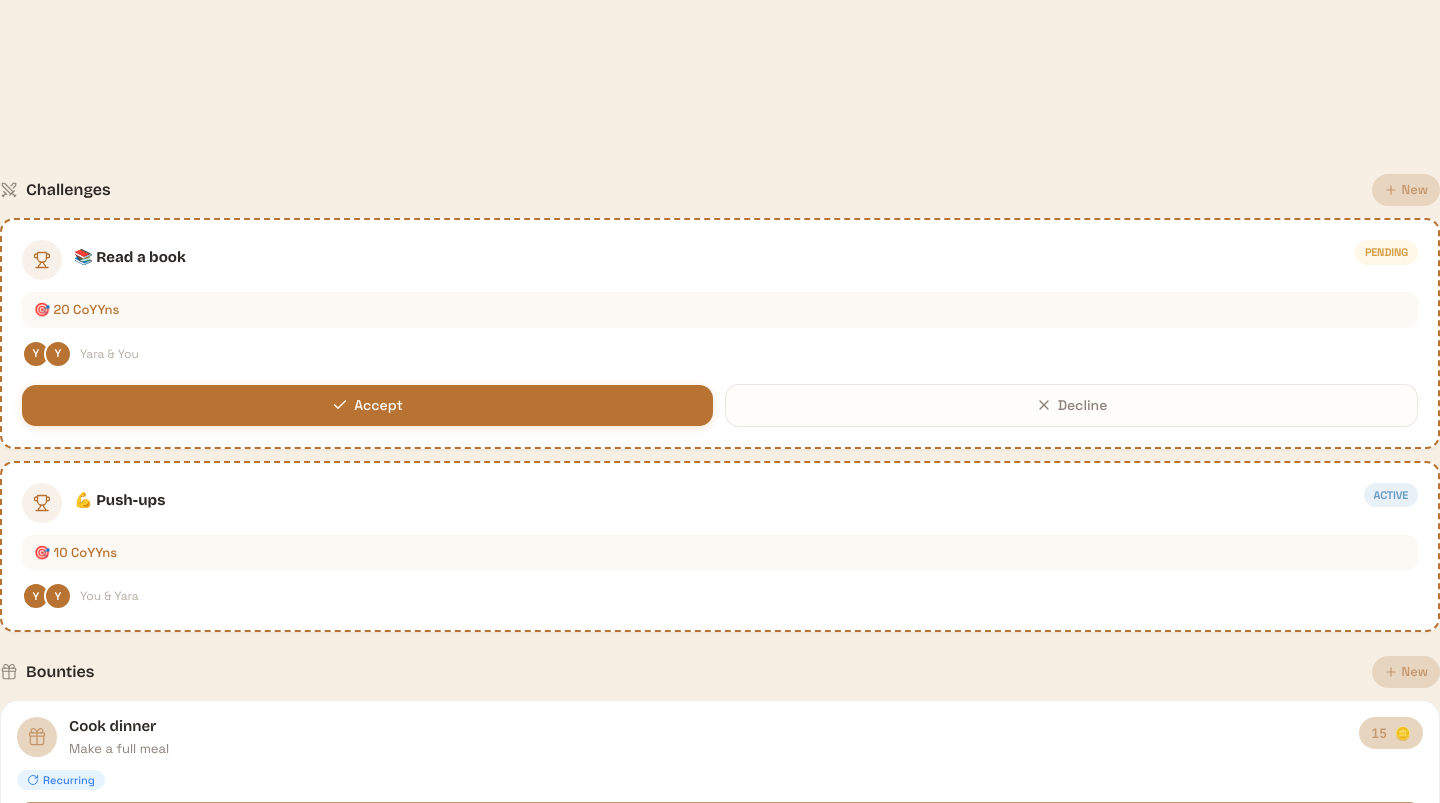
CoyynsTabPage › opens accept flow when clicking on pending challenge
The width and height of the screenshot is (1440, 803).
(page scrolled)
Find the Accept button within the pending challenge card
Click the button "Accept".
click(368, 405)  # box top-left (22, 384), bottom-right (713, 426)
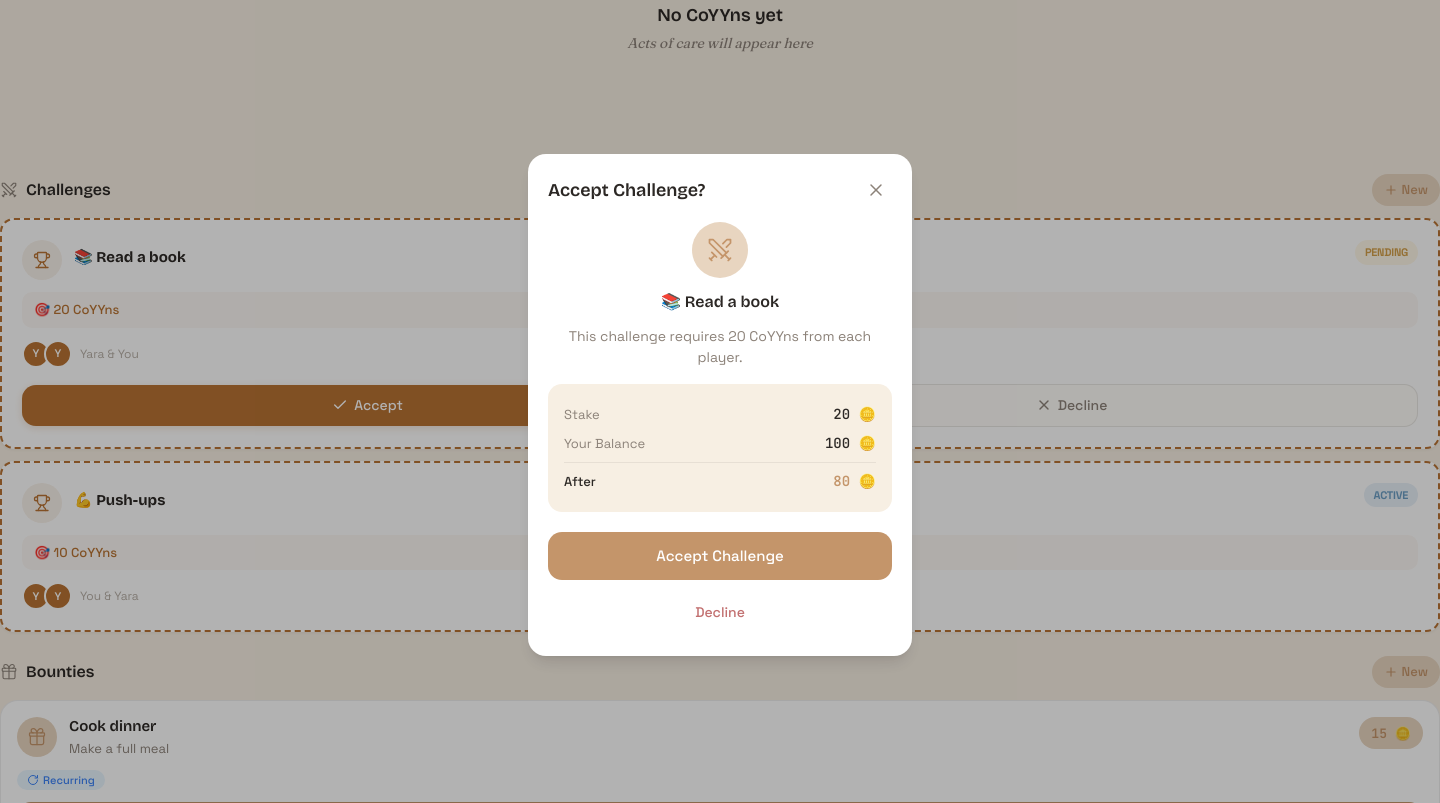
Expected: the dialog with test id "accept-flow-dialog" is shown, top-left (528, 154), bottom-right (912, 656)
